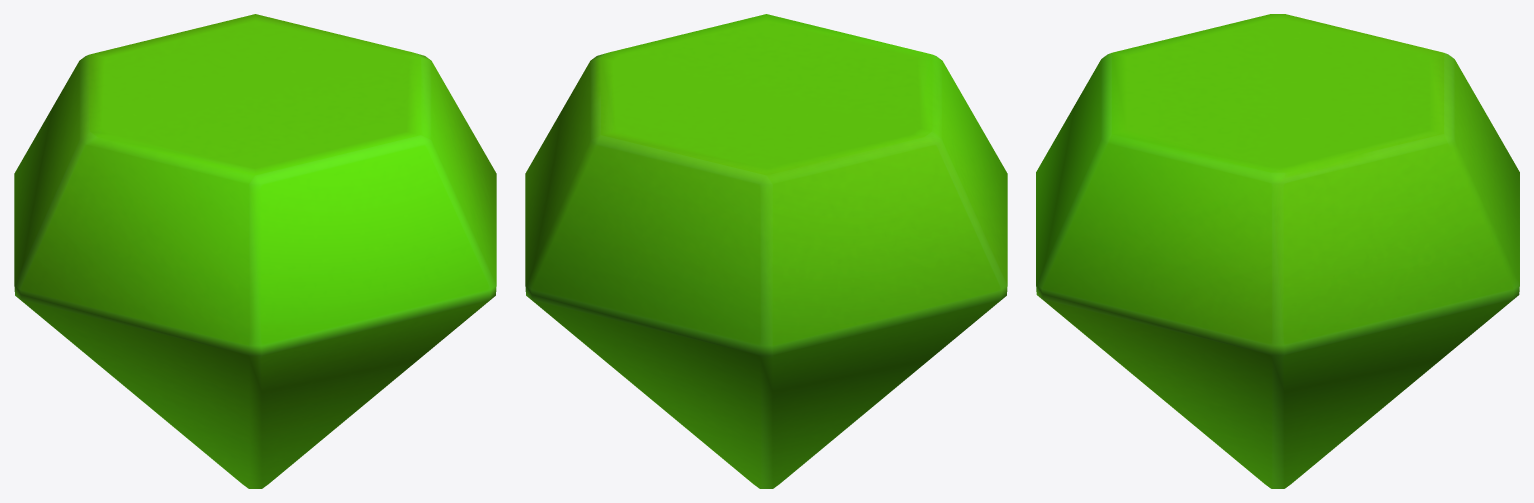
Rendered from Diamond_Green.FBX.
The picture shows the model from 3 angles, left to right: view 1: azimuth 30°, elevation 25°; view 2: azimuth 150°, elevation 25°; view 3: azimuth 270°, elevation 25°; orthographic projection.
Visible parts, largest first — view 1: Diamond_Green; view 2: Diamond_Green; view 3: Diamond_Green.
Boxes of the visible parts, x1,y1,x2,y2 form: Diamond_Green: (14, 14, 496, 488); Diamond_Green: (525, 14, 1007, 488); Diamond_Green: (1036, 14, 1519, 488).
Size of the model in its own units: 77.45 by 60.55 by 67.94.
1 material, 1 textured.
